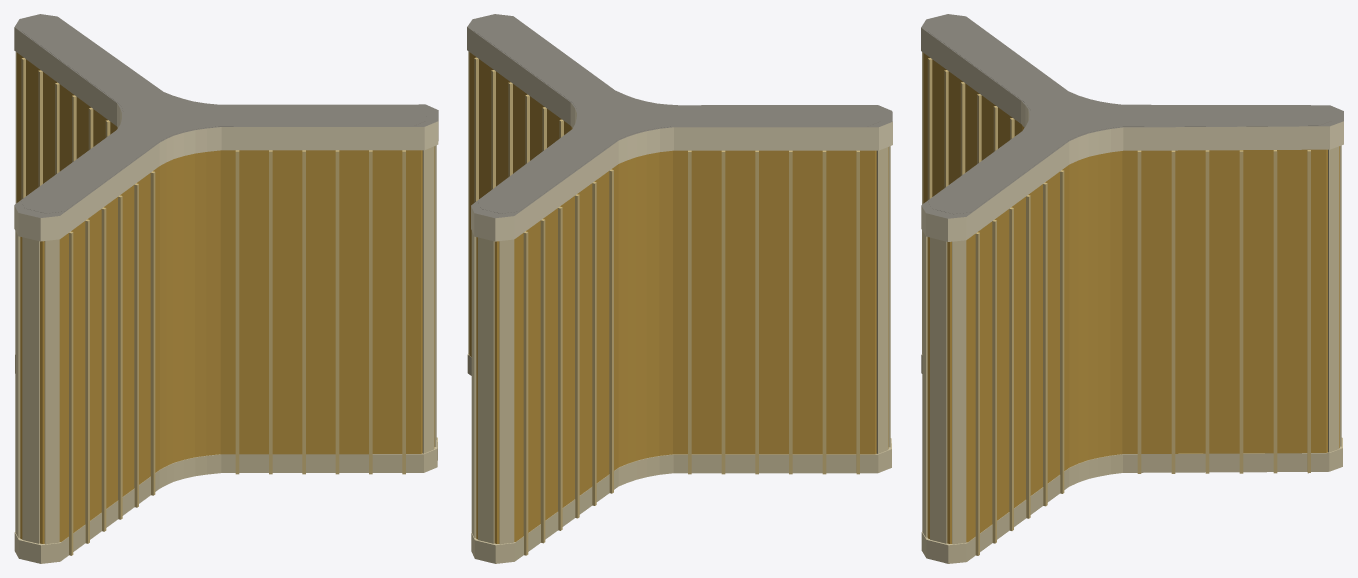
Rendered from mandalay_bay.glb.
The picture shows the model from 3 angles, left to right: view 1: azimuth 30°, elevation 25°; view 2: azimuth 150°, elevation 25°; view 3: azimuth 270°, elevation 25°; orthographic projection.
Parts seen in each view (by area): view 1: ResortTower; view 2: ResortTower; view 3: ResortTower.
Boxes of the visible parts, x1,y1,x2,y2 form: ResortTower: [14, 14, 438, 563]; ResortTower: [467, 14, 892, 563]; ResortTower: [921, 14, 1343, 563].
Bounding box in the file's own units: 188 × 148 × 164.
